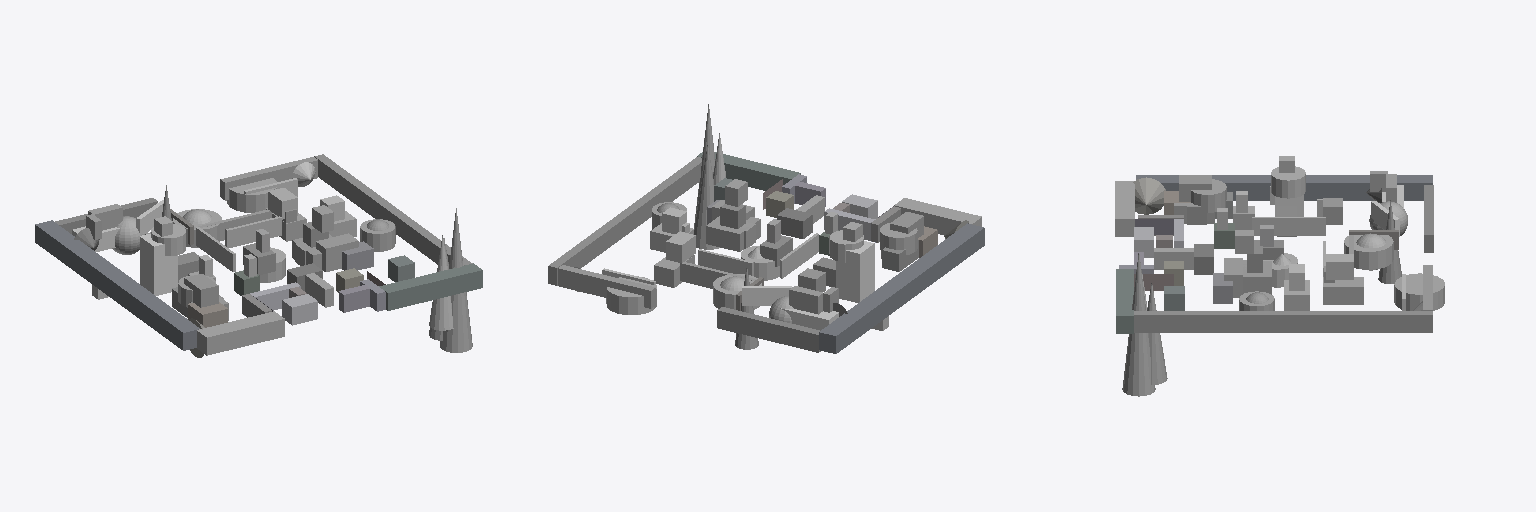
The model's file is newscene.obj.
The picture shows the model from 3 angles: view 1: azimuth 30°, elevation 25°; view 2: azimuth 150°, elevation 25°; view 3: azimuth 270°, elevation 25°; orthographic projection.
Visible parts, largest first — view 1: cube51, cube54, cube1, cube2, cube78, cone115, cube62, cylinder99, cube72, cube42, cube19, cone117 (+16 smaller); view 2: cube51, cube54, cube59, cube78, cube62, cube1, cube2, cube46, cone116, cylinder99, cube72, cube24 (+22 smaller); view 3: cube54, cube51, cone115, cube73, cylinder99, cube1, cube2, cylinder102, cube77, cone114, cylinder97, cone116 (+13 smaller).
Boxes of the visible parts, <box> form: cube51: <box>35,220,199,350</box>; cube54: <box>314,154,472,265</box>; cube1: <box>379,263,482,310</box>; cube2: <box>197,311,284,355</box>; cube78: <box>140,234,177,295</box>; cone115: <box>440,208,472,352</box>; cube62: <box>220,157,317,200</box>; cylinder99: <box>227,178,276,212</box>; cube72: <box>225,216,281,247</box>; cube42: <box>316,233,358,271</box>; cube19: <box>282,294,317,325</box>; cone117: <box>429,235,453,330</box>; cube51: <box>819,223,984,353</box>; cube54: <box>548,157,701,285</box>; cube59: <box>717,307,820,352</box>; cube78: <box>836,241,874,302</box>; cube62: <box>558,265,655,308</box>; cube1: <box>697,152,800,190</box>; cube2: <box>894,198,981,235</box>; cube46: <box>706,216,760,251</box>; cone116: <box>694,145,714,246</box>; cylinder99: <box>606,276,656,314</box>; cube72: <box>698,249,753,275</box>; cube24: <box>777,208,812,238</box>; cube54: <box>1134,311,1432,332</box>; cube51: <box>1136,175,1432,200</box>; cone115: <box>1122,253,1155,396</box>; cube73: <box>1252,217,1325,235</box>; cylinder99: <box>1394,273,1444,310</box>; cube1: <box>1116,269,1133,333</box>; cube2: <box>1115,181,1134,236</box>; cylinder102: <box>1344,235,1393,269</box>; cube77: <box>1323,277,1363,304</box>; cone114: <box>1133,177,1165,214</box>; cylinder97: <box>1271,166,1305,198</box>; cone116: <box>1147,283,1167,384</box>.
Size of the model in its own units: 4300 by 1994 by 4258.